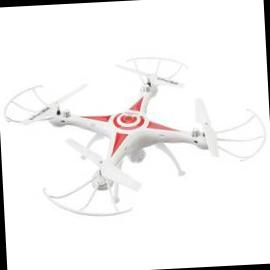drone: (0, 52, 270, 213)
